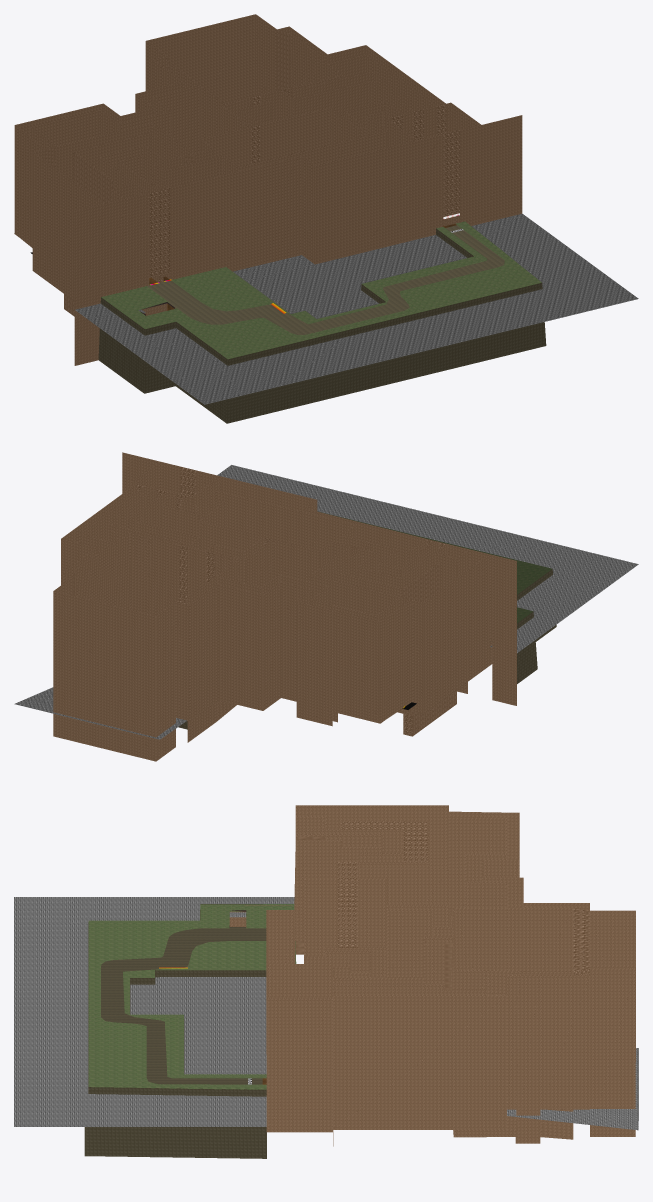
The picture shows the model from 3 angles, top to bottom: view 1: azimuth 30°, elevation 25°; view 2: azimuth 150°, elevation 25°; view 3: azimuth 270°, elevation 25°; orthographic projection. The views are drawn at different scales.
Visible parts, largest first — view 1: polygon4.018, polygon16.015, polygon17.013, polygon25.007, polygon0.046, polygon9.018; view 2: polygon4.018, polygon16.015, polygon0.046, polygon17.013, polygon25.007; view 3: polygon4.018, polygon16.015, polygon25.007, polygon17.013, polygon9.018, polygon0.046, polygon22.010.
Boxes of the visible parts, x1,y1,x2,y2 form: polygon4.018: (14, 14, 522, 365); polygon16.015: (75, 213, 638, 404); polygon17.013: (98, 228, 546, 423); polygon25.007: (101, 221, 541, 359); polygon0.046: (64, 29, 459, 316); polygon9.018: (147, 225, 504, 334); polygon4.018: (53, 452, 516, 761); polygon16.015: (14, 465, 638, 739); polygon0.046: (72, 466, 456, 736); polygon17.013: (178, 569, 556, 729); polygon25.007: (318, 511, 552, 623); polygon4.018: (229, 805, 635, 1143); polygon16.015: (14, 897, 638, 1130); polygon25.007: (88, 904, 296, 1089); polygon17.013: (84, 904, 266, 1158); polygon9.018: (101, 927, 266, 1084); polygon0.046: (333, 821, 589, 1146); polygon22.010: (295, 837, 453, 990).
Bounding box in the file's own units: 148451 × 50578 × 170509.
18 materials, 18 textured.
